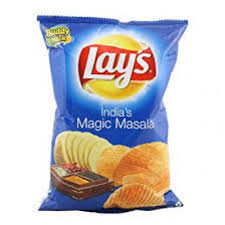lays-med: (40, 13, 178, 206)
